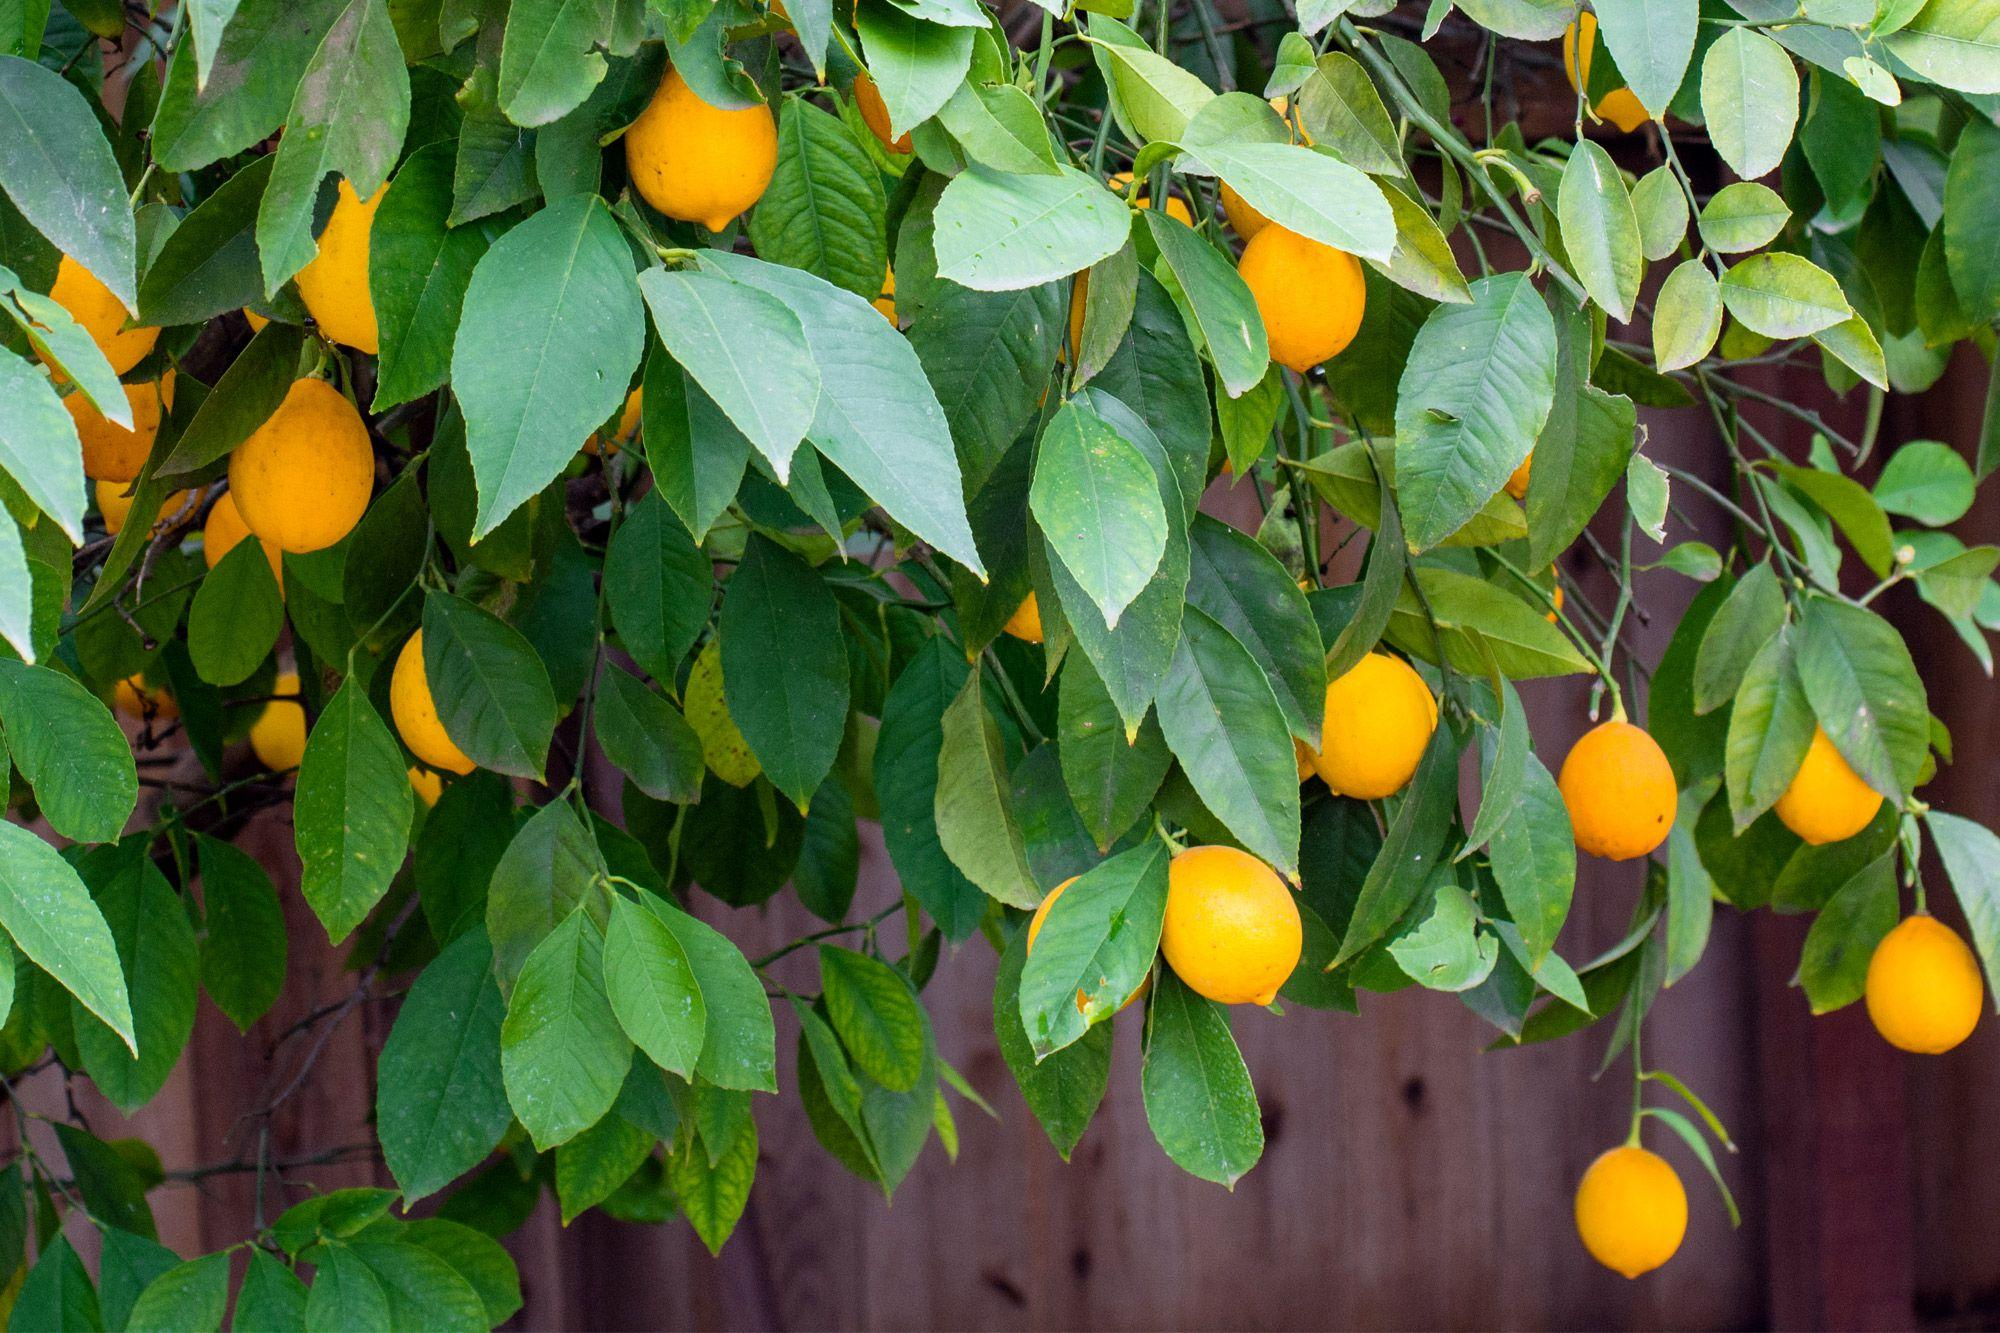Healthy Citrus: (690, 251, 996, 576), (455, 189, 650, 550), (1033, 385, 1187, 726), (1407, 260, 1558, 552), (636, 265, 825, 470), (605, 881, 781, 1086), (0, 815, 144, 1061), (0, 656, 152, 854), (82, 861, 199, 1114), (497, 912, 629, 1125), (1129, 1013, 1274, 1192), (940, 167, 1118, 287), (608, 894, 709, 1073), (1558, 144, 1651, 329), (506, 1, 616, 115), (1710, 22, 1792, 173), (1599, 0, 1704, 110)
